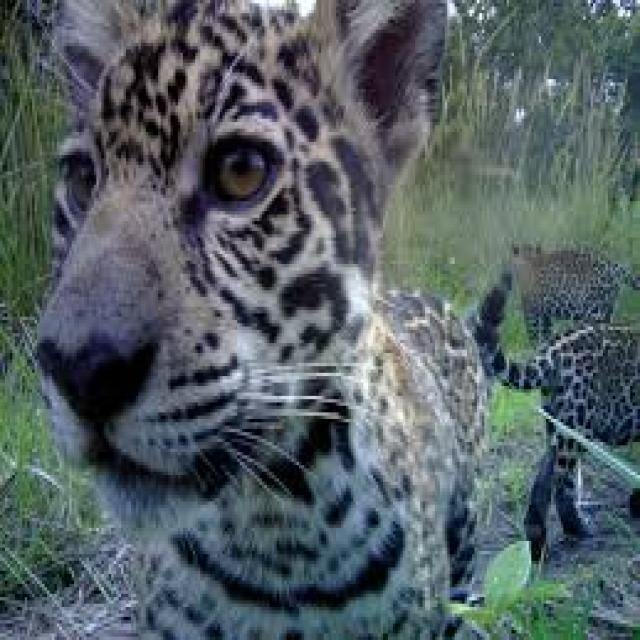Jaguar: (37, 0, 482, 624), (487, 294, 640, 531), (509, 241, 625, 353)
